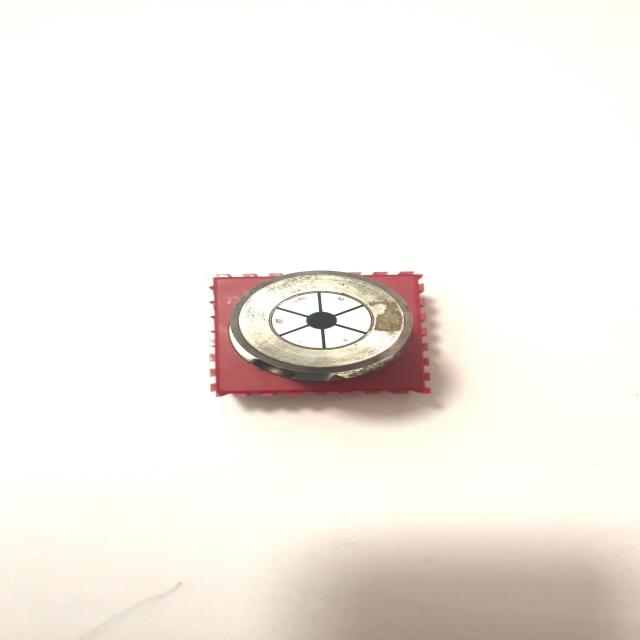Filled_Slot: (227, 271, 412, 381)
